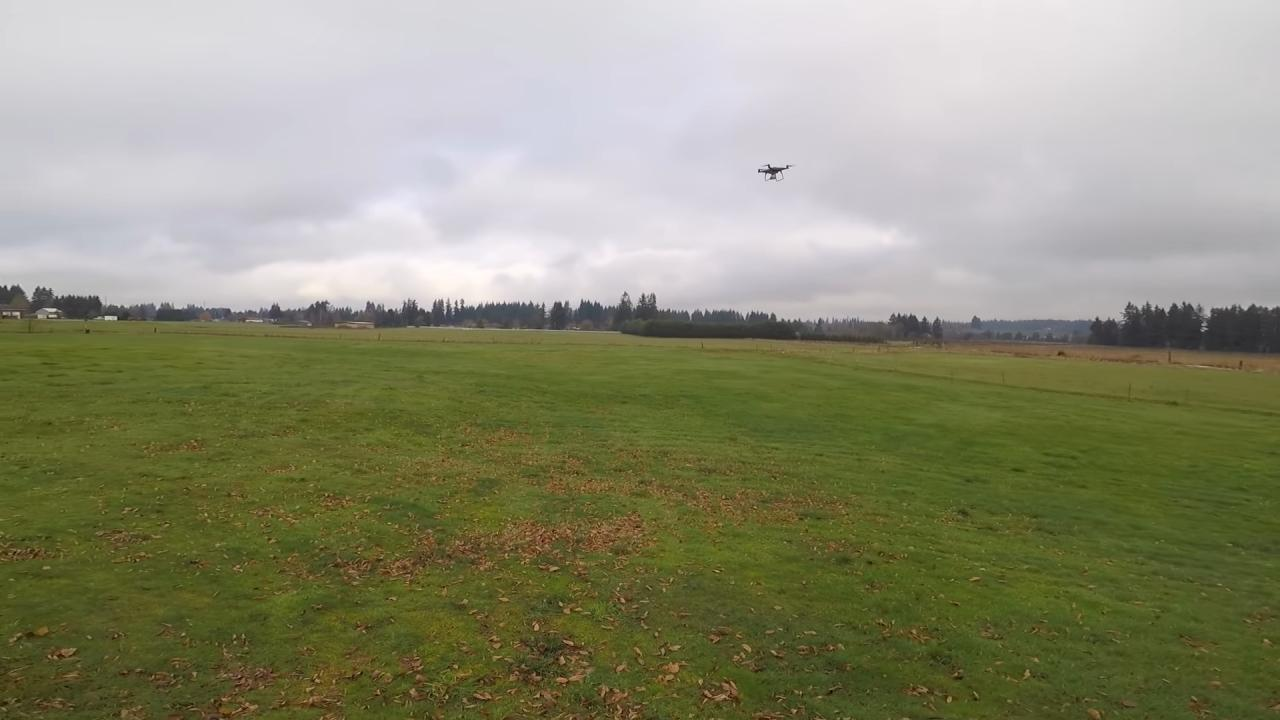Drone: (749, 157, 800, 189)
